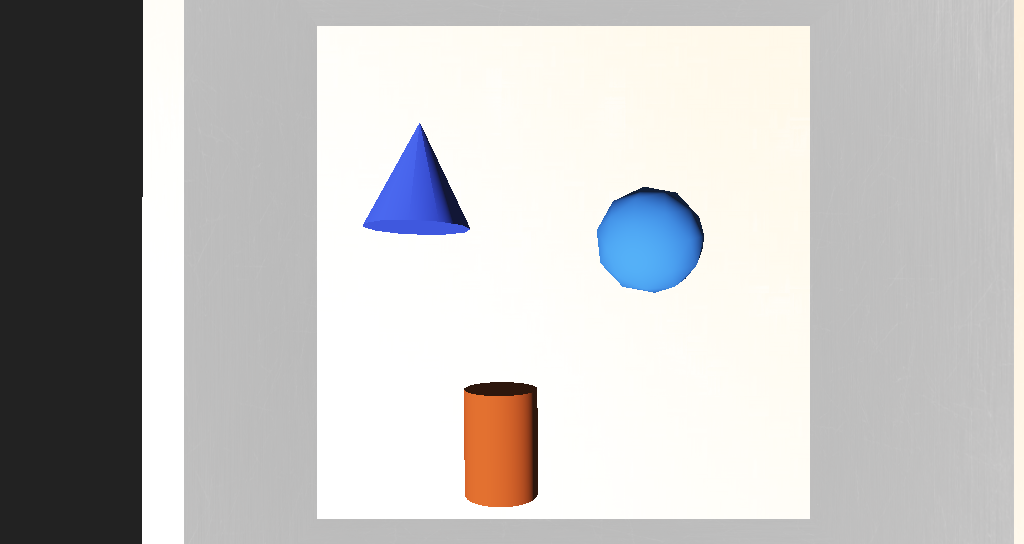cone: (448, 315, 495, 363)
cylinder: (381, 203, 455, 255)
sphere: (519, 236, 586, 279)
